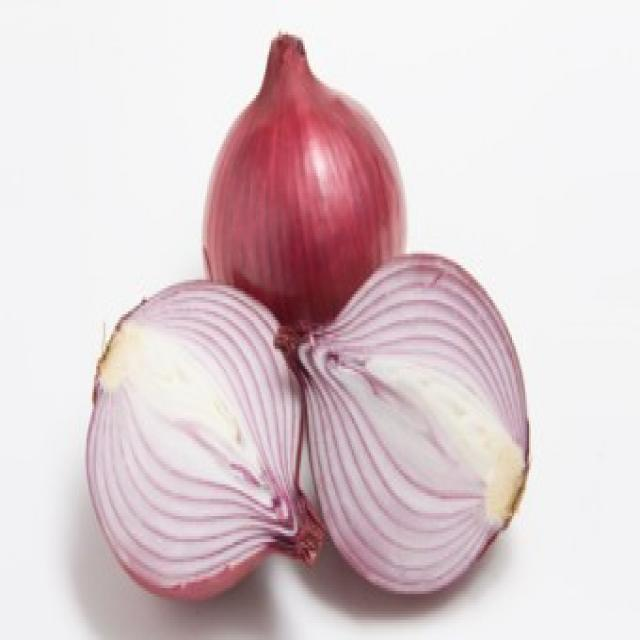Onion: (54, 272, 342, 607), (300, 248, 534, 600), (188, 26, 444, 278)
